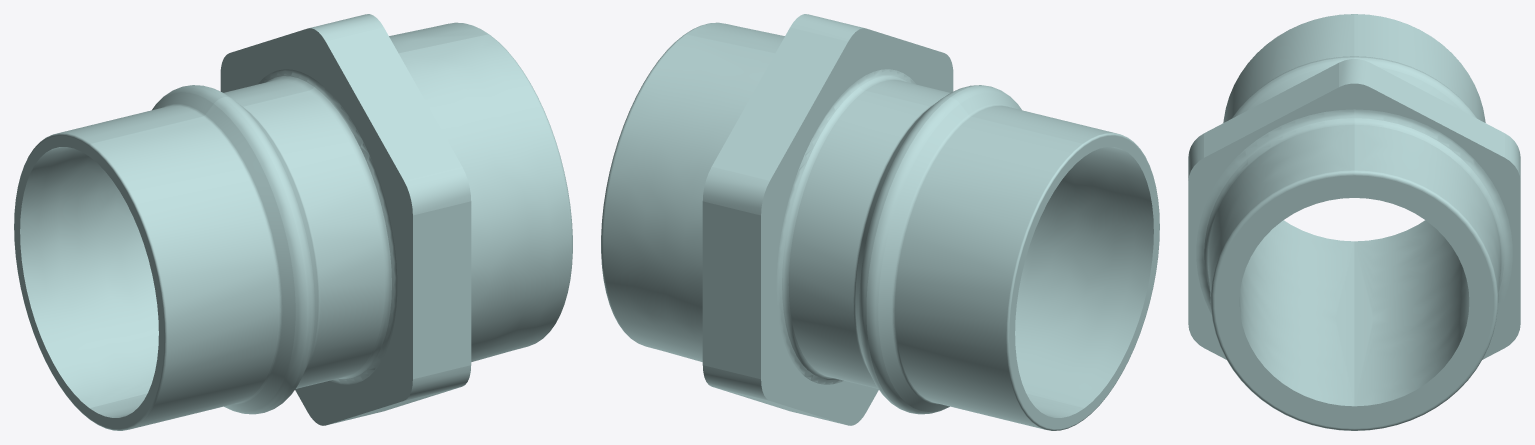
3 renders of one model, left to right at view 1: azimuth 30°, elevation 25°; view 2: azimuth 150°, elevation 25°; view 3: azimuth 270°, elevation 25°, orthographic. The views are drawn at different scales.
Bounding box in the file's own units: 104 × 97.27 × 86.44.
